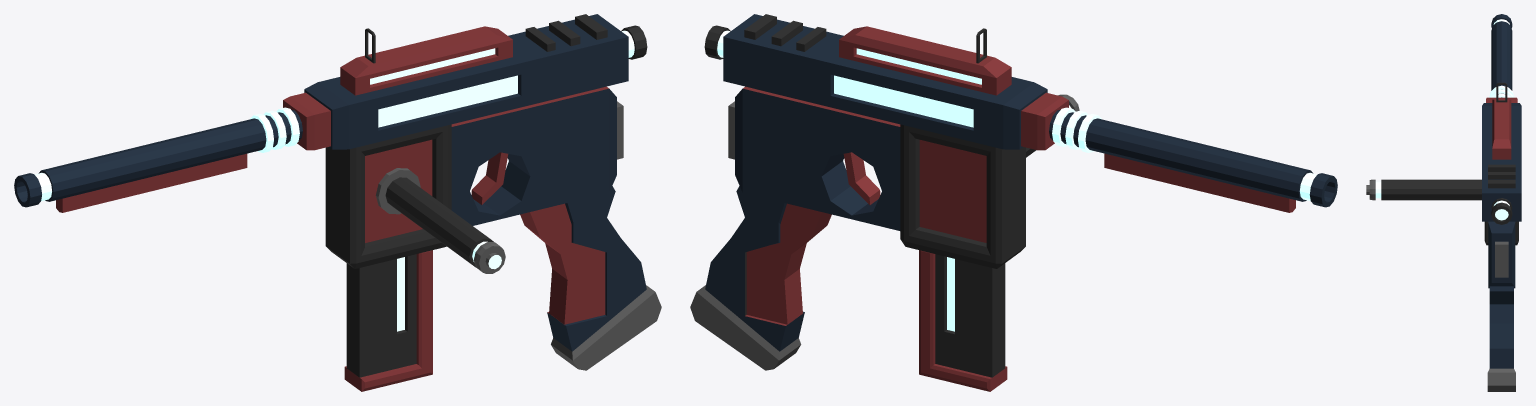
The model's file is FuturisticPistol 1.fbx.
3 renders of one model, left to right at view 1: azimuth 30°, elevation 25°; view 2: azimuth 150°, elevation 25°; view 3: azimuth 270°, elevation 25°, orthographic. The views are drawn at different scales.
Visible parts, largest first — view 1: Pistol, AmmoClip, Monster tube; view 2: Pistol, AmmoClip; view 3: Pistol, Monster tube.
Part boxes in pixels (x1,y1,x2,y2): Pistol: (14, 14, 661, 370); AmmoClip: (344, 250, 432, 391); Monster tube: (375, 168, 505, 273); Pistol: (690, 14, 1337, 370); AmmoClip: (919, 250, 1007, 391); Pistol: (1482, 14, 1521, 391); Monster tube: (1366, 179, 1481, 200).
Bounding box in the file's own units: 1337 × 777 × 449.
